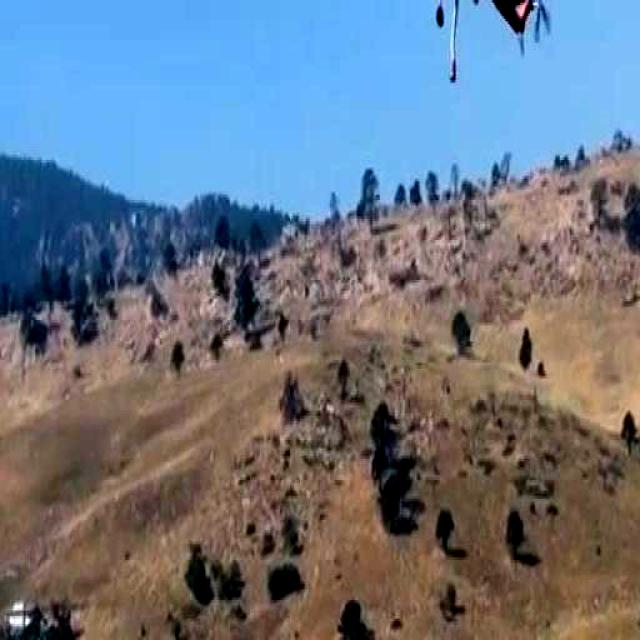drone: (359, 0, 582, 84)
